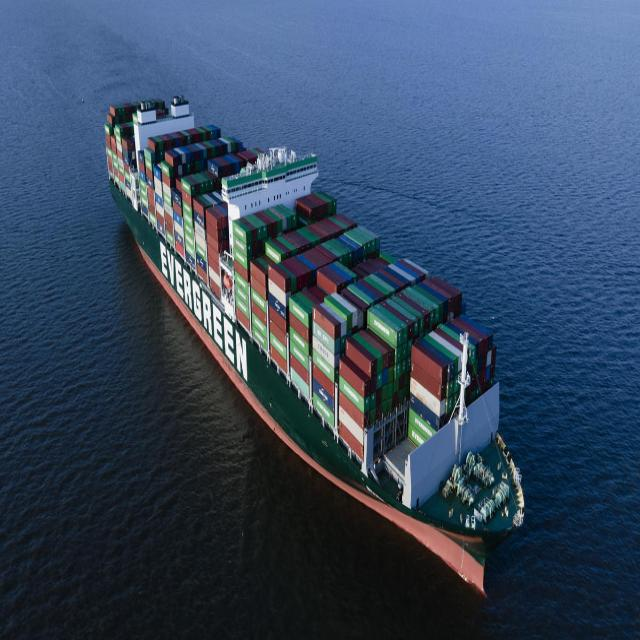boat: (95, 46, 551, 620)
